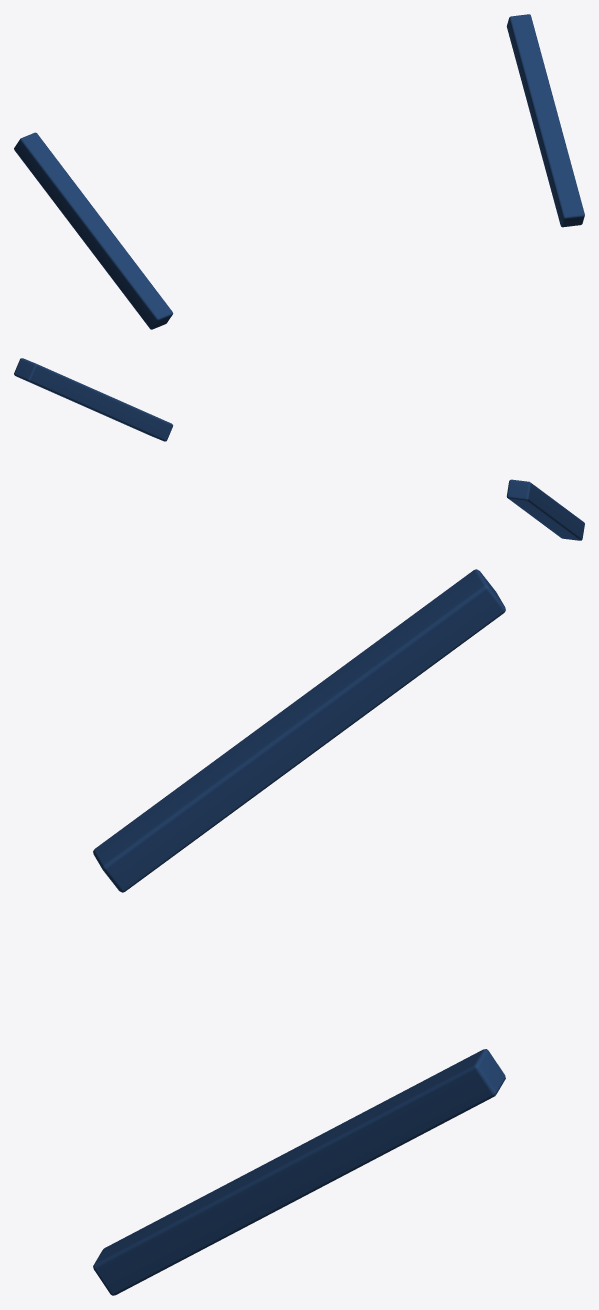
The model's file is GEO_A_Pillar.glb.
The picture shows the model from 3 angles, top to bottom: view 1: azimuth 30°, elevation 25°; view 2: azimuth 150°, elevation 25°; view 3: azimuth 270°, elevation 25°; orthographic projection. The views are drawn at different scales.
Visible parts, largest first — view 1: GEO_A_Pillar; view 2: GEO_A_Pillar; view 3: GEO_A_Pillar.
Part boxes in pixels (left/top/right/bottom): GEO_A_Pillar: left=14, top=14, right=584, bottom=329; GEO_A_Pillar: left=14, top=358, right=584, bottom=540; GEO_A_Pillar: left=93, top=569, right=505, bottom=1295.
Size of the model in its own units: 1.68 by 0.421 by 0.5849.
